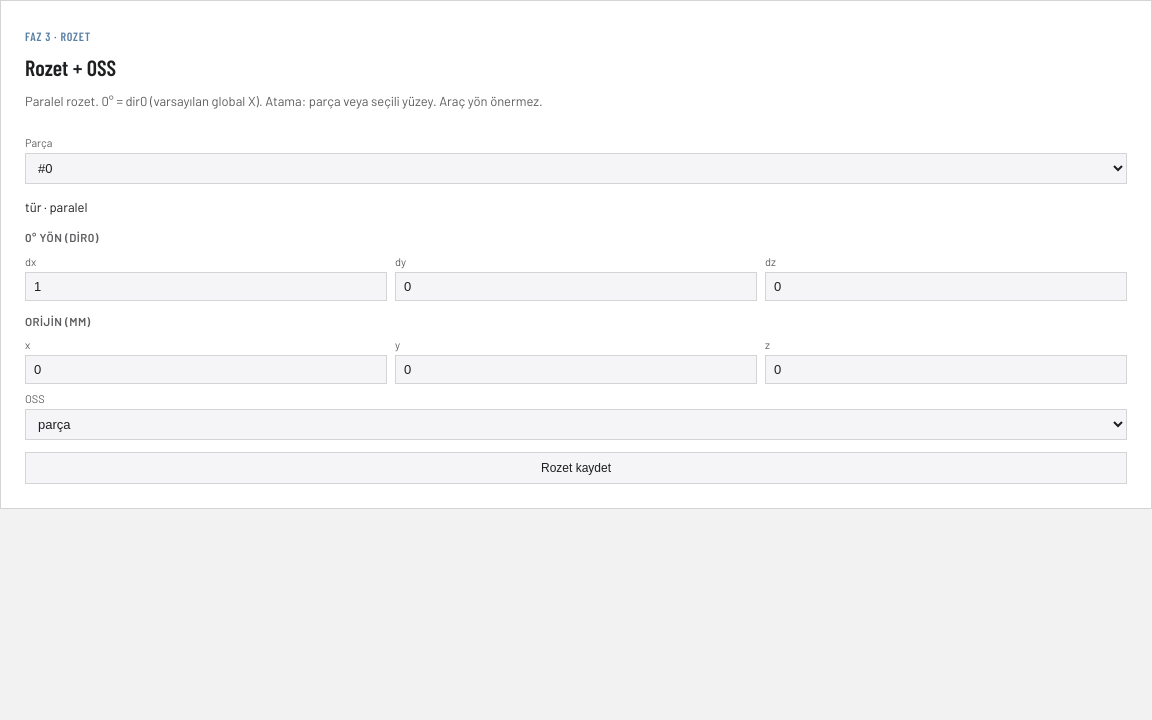
it: CompositeRosettePanel › seçili yüzeyleri OSS'ye alır
Step 1. Select "seçili yüzeyler" in the dropdown named "OSS hedef" → coordinates (576, 424), box left=25, top=409, right=1127, bottom=440
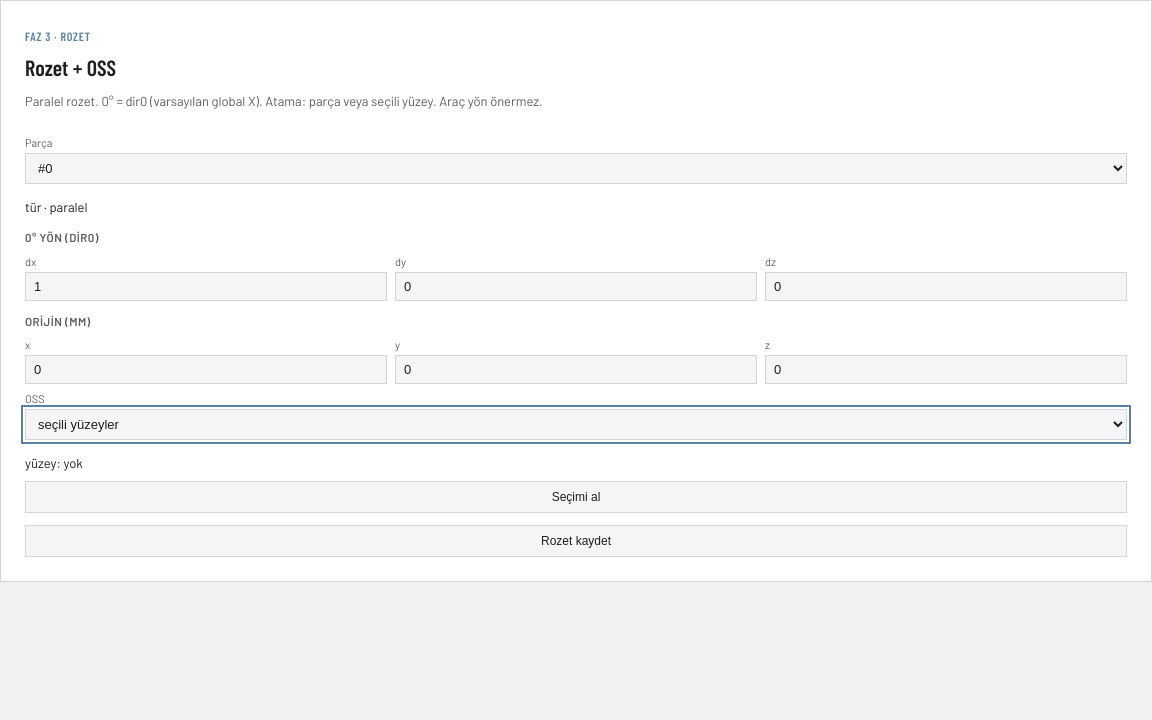
Step 2. Click the button "Seçimi al" → coordinates (576, 497), box left=25, top=481, right=1127, bottom=513
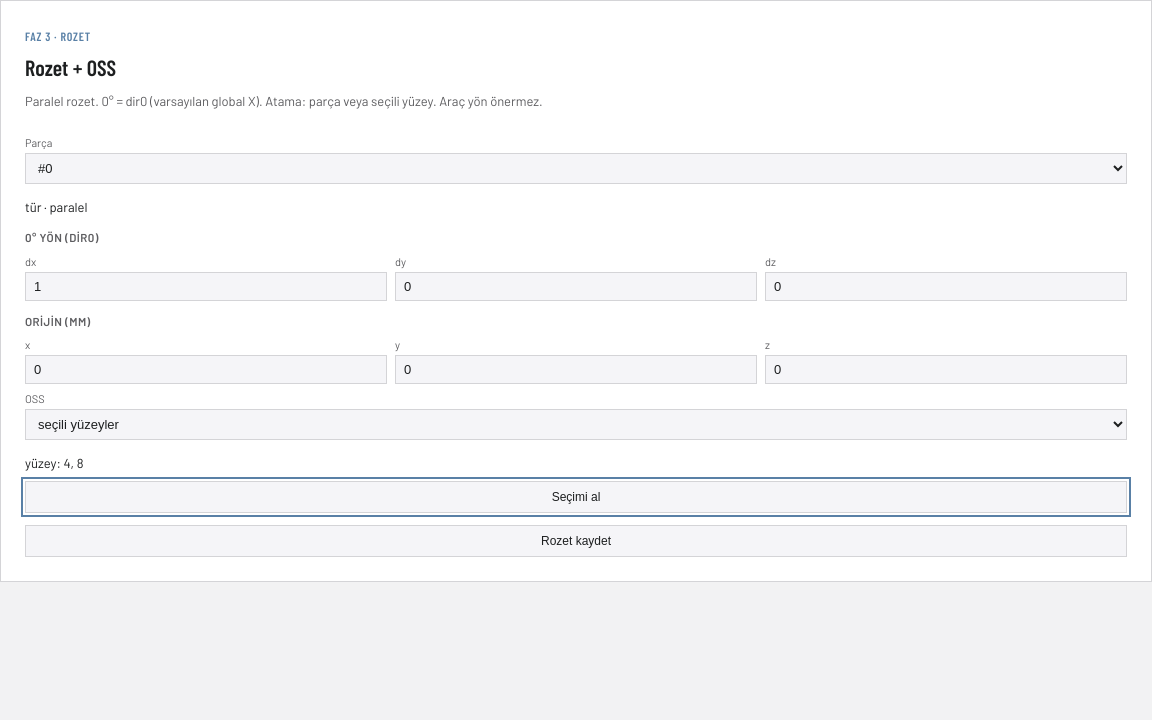
Check: the text "yüzey: 4, 8" is shown, box left=25, top=455, right=83, bottom=471
